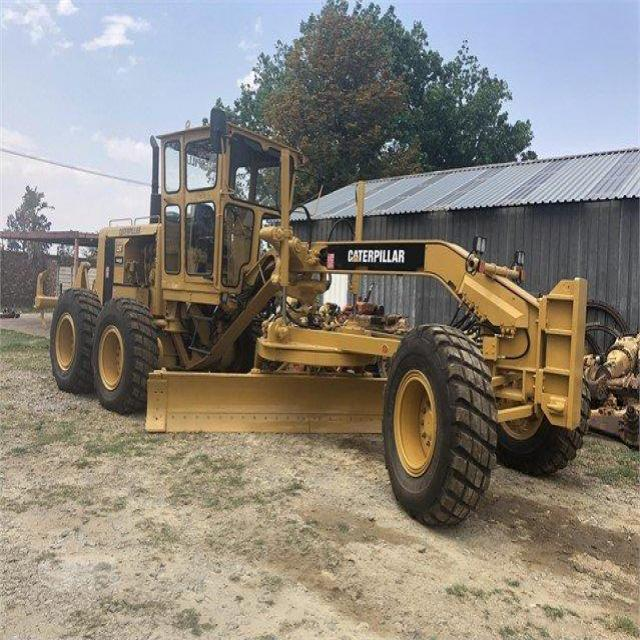Grader: (41, 94, 607, 524)
